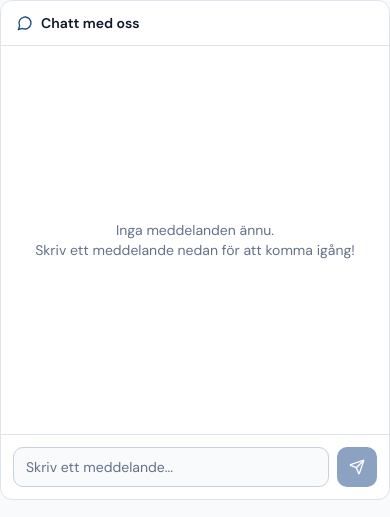
Scenario: anonymous portal chat › refetches the saved message without relying on anonymous Realtime
Expected: the text "Inga meddelanden ännu" is shown, top-left (116, 221), bottom-right (274, 239)
Type "Leverera imorgon" into the field labelled "meddelande".
click(171, 467); type("Leverera imorgon")  # box top-left (13, 447), bottom-right (329, 487)
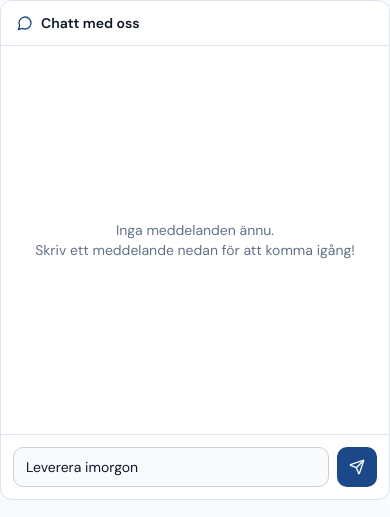
Click the button named "Skicka meddelande".
click(357, 467)  # box top-left (337, 447), bottom-right (377, 487)
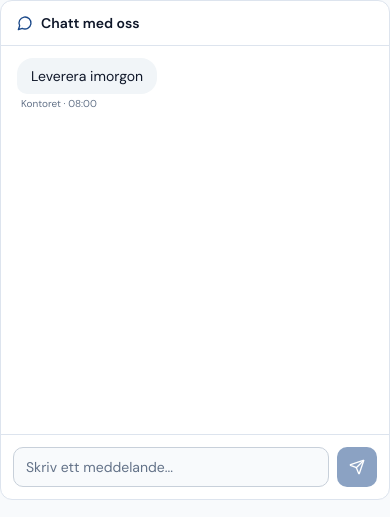
Expected: the text "Leverera imorgon" is shown, top-left (17, 58), bottom-right (157, 94)
Expected: the field labelled "meddelande" is empty, top-left (13, 447), bottom-right (329, 487)
